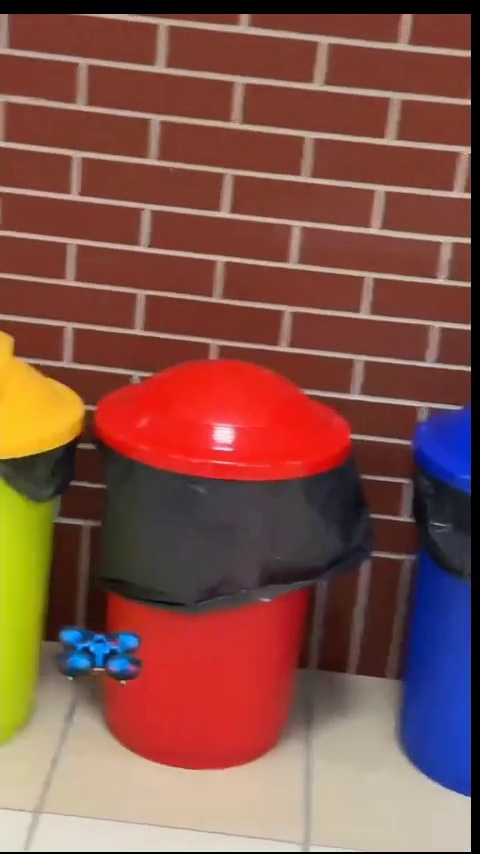drone: (59, 627, 138, 679)
